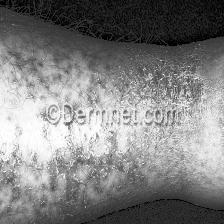Non-Cancerous Skin Condition: (0, 17, 224, 214)
